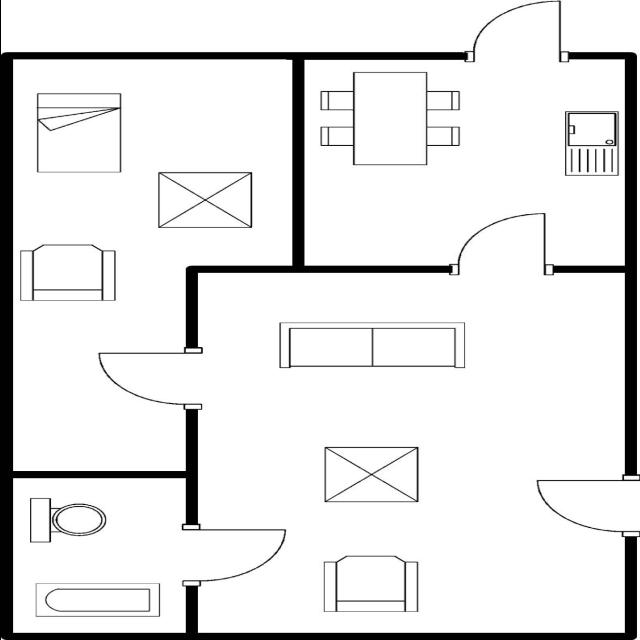armchair: (16, 240, 120, 306), (317, 552, 423, 615)
bed: (32, 89, 126, 174)
coffee_table: (317, 442, 423, 508), (152, 168, 260, 230)
dining_table: (316, 69, 464, 168)
large_sink: (23, 494, 112, 544)
large_sofa: (270, 319, 470, 371)
sink: (558, 108, 622, 178)
tub: (32, 579, 164, 619)
